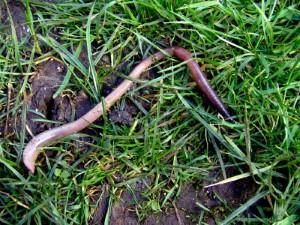earthworms: (19, 43, 261, 174)
